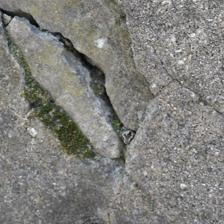Crack: (3, 5, 126, 133)
